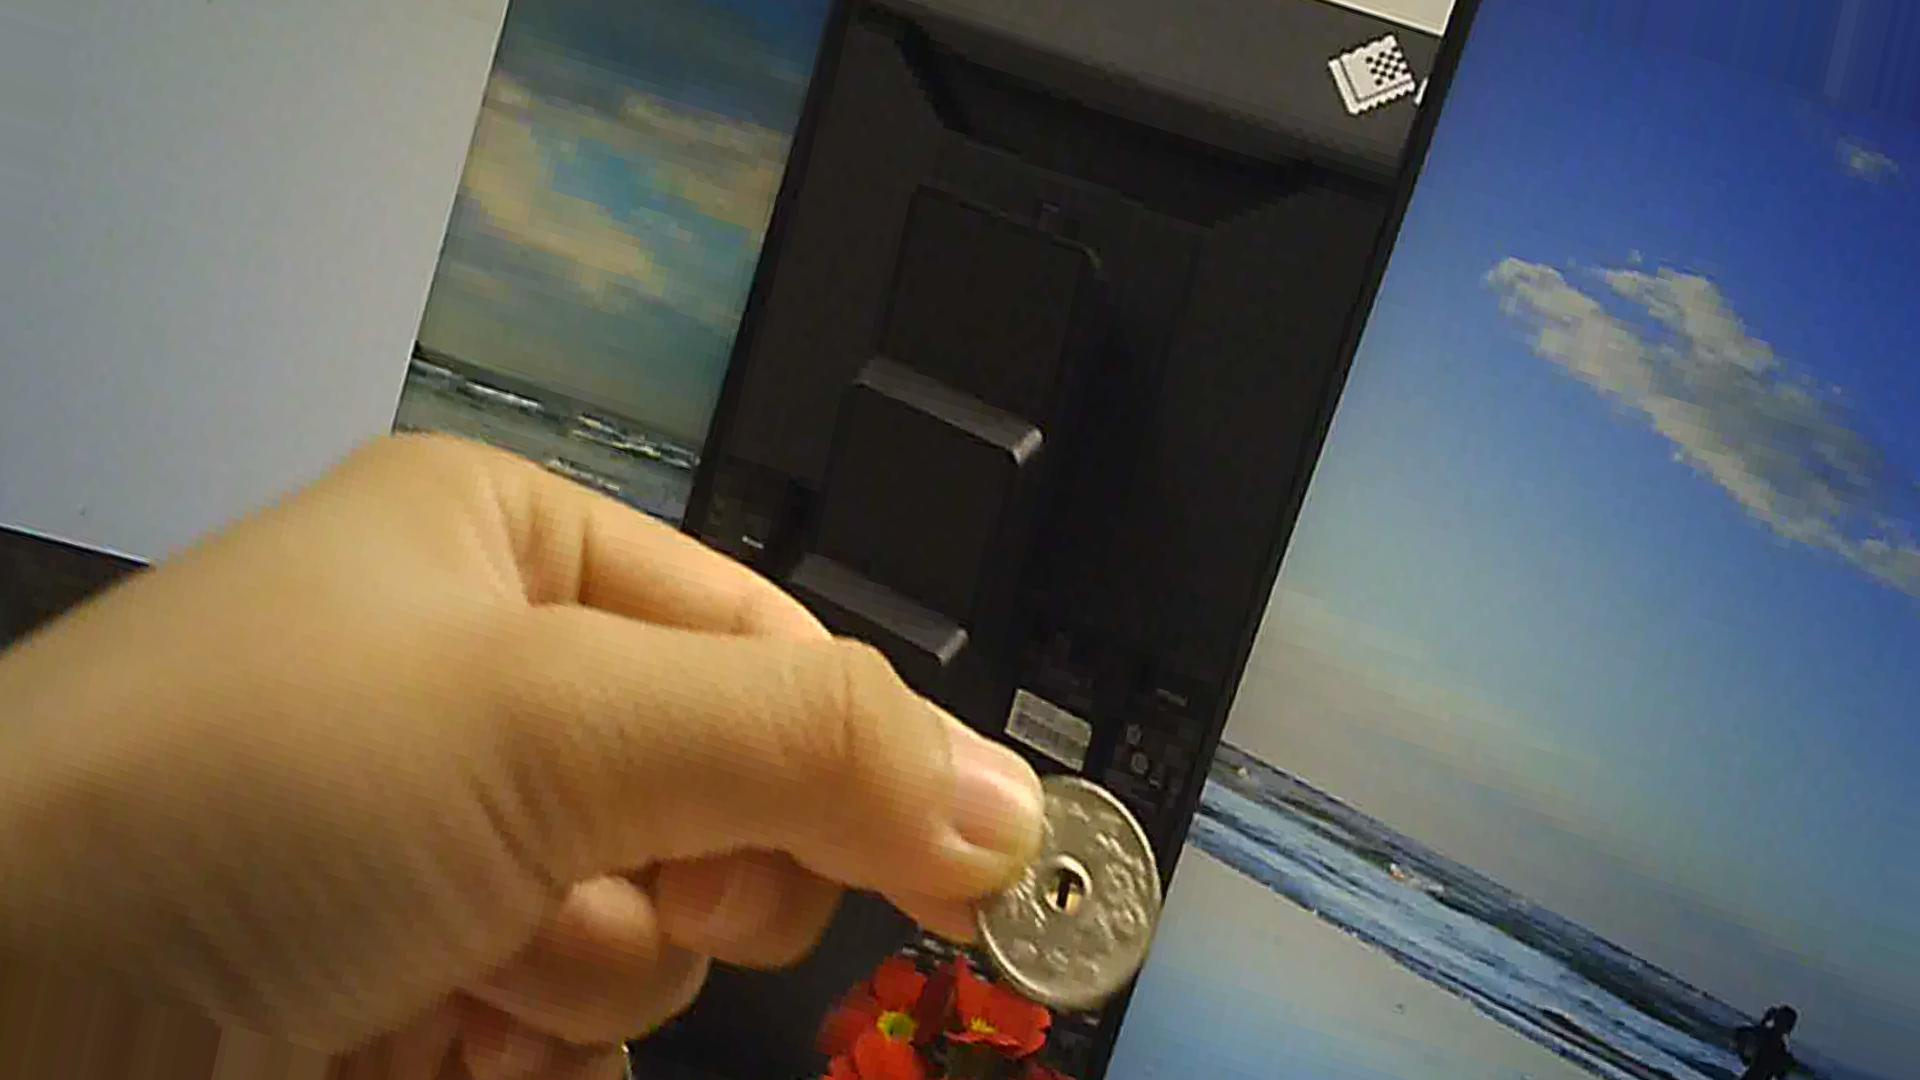50 Yen: (969, 760, 1174, 1021)
